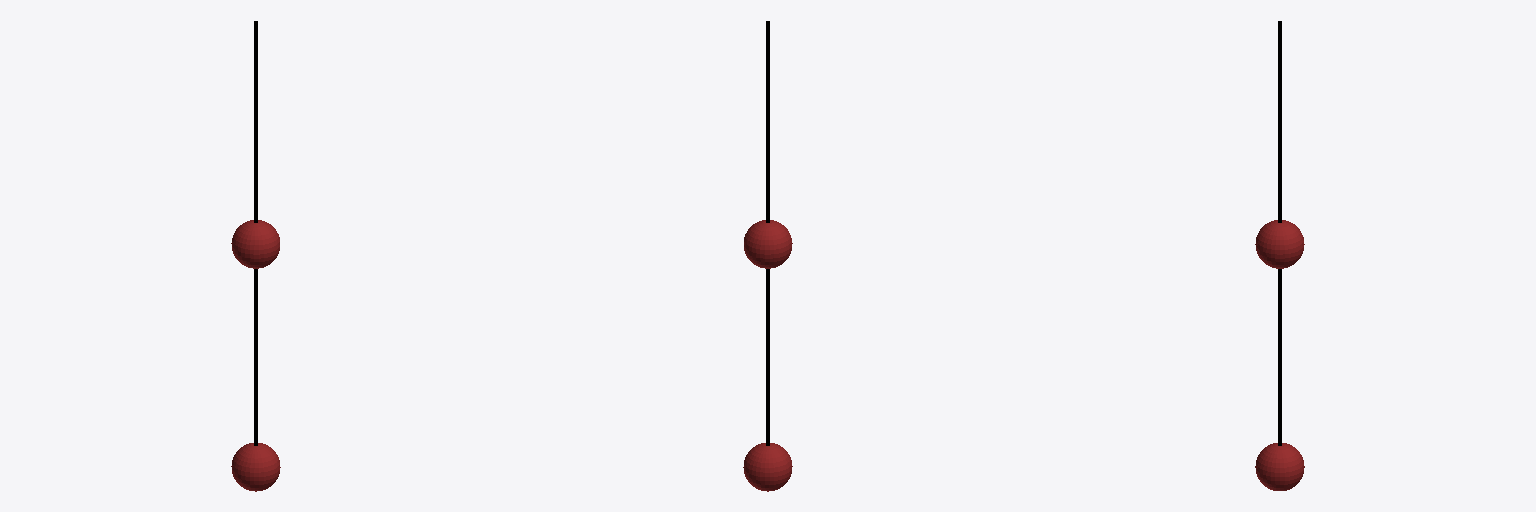
The robot description file, URDF, robot "SimpleDoublePendulum":
<?xml version="1.0"?>

<robot xmlns="http://drake.mit.edu"
 xmlns:xsi="http://www.w3.org/2001/XMLSchema-instance"
 xsi:schemaLocation="http://drake.mit.edu ../../doc/drakeURDF.xsd" name="SimpleDoublePendulum">
  <material name="black">
    <color rgba="0 0 0 1" />
  </material>
  <material name="MITred">
    <color rgba=".6 .2 .2 1" />
  </material>

  <link name="base">
    <inertial>
      <origin xyz="0 0 0" />
      <mass value="0.01" />
      <inertia ixx="0.01" ixy="0" ixz="0" iyy="0" iyz="0" izz="0" />
    </inertial>
  </link>
  <link name="upper_arm">
    <inertial> 
      <origin xyz="0 0 -1" rpy="0 0 0" />
      <mass value="1" />
      <inertia ixx="0" ixy="0" ixz="0" iyy="0" iyz="0" izz="0"/> 
    </inertial>
    <visual>
      <origin xyz="0 0 -.5" rpy="0 0 0" />
      <geometry>
         <cylinder length="1" radius=".01" />
      </geometry>
      <material name="black" />
    </visual> 
    <visual>
      <origin xyz="0 0 -1"/>
      <geometry>
        <sphere radius=".1"/>
      </geometry>
      <material name="MITred" />
    </visual>
  </link>
  <joint name="shoulder" type="continuous">
    <parent link="base"/>
    <child link="upper_arm" />
    <axis xyz="0 1 0" />
    <dynamics damping="0.1" />
  </joint>
  <transmission type="SimpleTransmission" name="shoulder_trans">
    <actuator name="shoulder" />
    <joint name="shoulder" />
    <mechanicalReduction>1</mechanicalReduction>
  </transmission>

  <link name="lower_arm">
    <inertial> 
      <origin xyz="0 0 -1" rpy="0 0 0" />
      <mass value="1" />
      <inertia ixx="0" ixy="0" ixz="0" iyy="0" iyz="0" izz="0"/> 
    </inertial>
    <visual>
      <origin xyz="0 0 -.5" rpy="0 0 0" />
      <geometry>
         <cylinder length="1" radius=".01" />
      </geometry>
      <material name="black" />
    </visual> 
    <visual>
      <origin xyz="0 0 -1"/>
      <geometry>
        <sphere radius=".1"/>
      </geometry>
      <material name="MITred" />
    </visual>
  </link>
  <joint name="elbow" type="continuous">
    <parent link="upper_arm"/>
    <origin xyz="0 0 -1" />
    <child link="lower_arm" />
    <axis xyz="0 1 0" />
    <dynamics damping="0.1" />
  </joint>
  <transmission type="SimpleTransmission" name="elbow_trans">
    <actuator name="elbow" />
    <joint name="elbow" />
    <mechanicalReduction>1</mechanicalReduction>
  </transmission>

</robot>

--- What the picture shows (computed from the rendered views, not written in the file) ---
The picture shows the robot from 3 angles, left to right: view 1: azimuth 30°, elevation 25°; view 2: azimuth 150°, elevation 25°; view 3: azimuth 270°, elevation 25°; orthographic projection.
Robot: SimpleDoublePendulum — 3 links, 2 joints (2 continuous); root link base; default pose: all joints at 0.
Links seen in each view (by area): view 1: upper_arm, lower_arm; view 2: upper_arm, lower_arm; view 3: upper_arm, lower_arm.
Link boxes in pixels (<box>): upper_arm: <box>231,21,279,268</box>; lower_arm: <box>231,269,280,491</box>; upper_arm: <box>744,21,792,268</box>; lower_arm: <box>743,269,792,491</box>; upper_arm: <box>1255,21,1304,268</box>; lower_arm: <box>1255,269,1304,490</box>.
Bounding box of the posed robot: 0.2 × 0.2 × 2.1 m (x, y, z).
Geometry: primitives only (box / cylinder / sphere), no mesh files.
